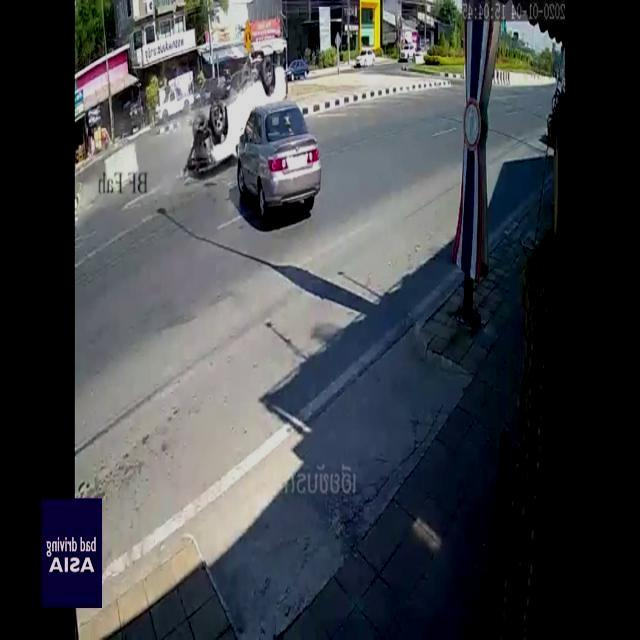accident: (175, 56, 322, 224)
